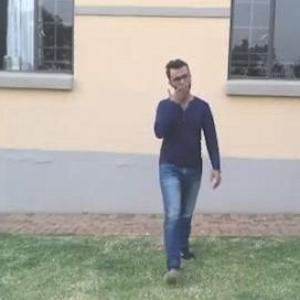follow: (148, 59, 208, 254)
